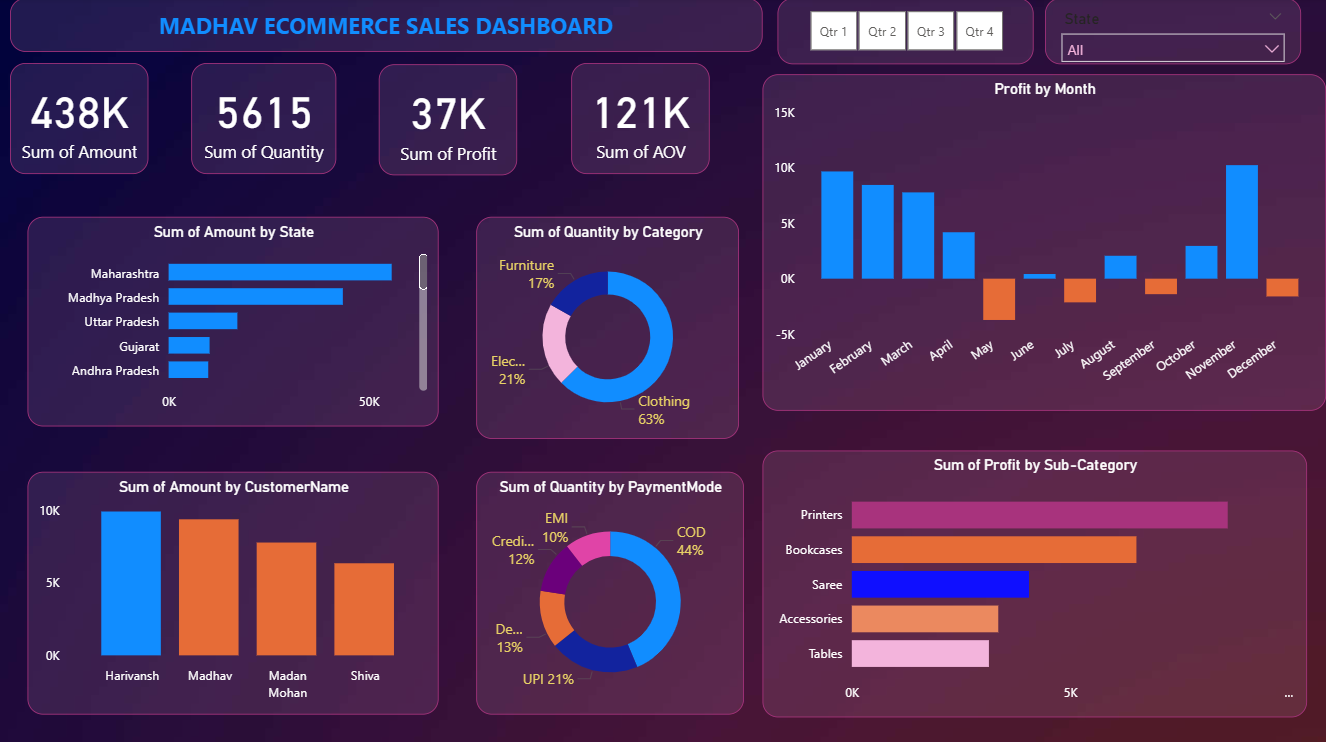

Layout of this report page (visuals, bound fields, positions):
{"tool":"powerbi","page":{"name":"Page 1","canvas":[1280,720],"ordinal":0},"visuals":[{"type":"textbox","box":[9.7,0,726.3,51.9],"z":0},{"type":"columnChart","title":" Profit by Month","fields":{"Y":["Sum(Details.Profit)"],"Category":["Orders.Order Date.Variation.Date Hierarchy.Month"]},"box":[735.9,73.6,544.1,324.5],"z":1000},{"type":"barChart","fields":{"Category":["Details.Sub-Category"],"Y":["Sum(Details.Profit)"]},"box":[735.5,436.4,525.6,258],"z":2000},{"type":"donutChart","fields":{"Category":["Details.Category"],"Y":["Sum(Details.Quantity)"]},"box":[459.7,211.1,253.4,214.7],"z":3000},{"type":"donutChart","fields":{"Y":["Sum(Details.Quantity)"],"Category":["Details.PaymentMode"]},"box":[459.7,457.2,258.2,234],"z":4000},{"type":"card","fields":{"Values":["Sum(Details.Amount)"]},"box":[9.7,62.7,133.9,107.4],"z":5000},{"type":"card","fields":{"Values":["Sum(Details.Quantity)"]},"box":[184.6,62.7,139.9,107.4],"z":6000},{"type":"card","fields":{"Values":["Sum(Details.Profit)"]},"box":[365.6,63.9,133.9,107.4],"z":7000},{"type":"card","fields":{"Values":["Sum(Details.AOV)"]},"box":[551.3,62.7,133.9,107.4],"z":8000},{"type":"barChart","fields":{"Category":["Orders.State"],"Y":["Sum(Details.Amount)"]},"box":[26.5,211.1,396.9,202.7],"z":8001},{"type":"columnChart","fields":{"Category":["Orders.CustomerName"],"Y":["Sum(Details.Amount)"]},"box":[27,457,397,234],"z":8002},{"type":"slicer","fields":{"Values":["Orders.Order Date.Variation.Date Hierarchy.Quarter"]},"box":[750.4,0,247.3,63.9],"z":8003},{"type":"slicer","fields":{"Values":["Orders.State"]},"box":[1008.6,0,247.3,63.9],"z":8004}]}

Visuals, with their boxes in screenshot pixels (x1, y1, x2, y2), scaled from the page's 1280x720 canvas onto the 1326x742 screenshot:
textbox: l=10, t=0, r=762, b=53
" Profit by Month" columnChart: l=762, t=76, r=1325, b=410
barChart - Details.Sub-Category x Sum(Details.Profit): l=762, t=450, r=1306, b=716
donutChart - Details.Category x Sum(Details.Quantity): l=476, t=218, r=739, b=439
donutChart - Sum(Details.Quantity) x Details.PaymentMode: l=476, t=471, r=744, b=712
card - Sum(Details.Amount): l=10, t=65, r=149, b=175
card - Sum(Details.Quantity): l=191, t=65, r=336, b=175
card - Sum(Details.Profit): l=379, t=66, r=517, b=177
card - Sum(Details.AOV): l=571, t=65, r=710, b=175
barChart - Orders.State x Sum(Details.Amount): l=27, t=218, r=439, b=426
columnChart - Orders.CustomerName x Sum(Details.Amount): l=28, t=471, r=439, b=712
slicer - Orders.Order Date.Variation.Date Hierarchy.Quarter: l=777, t=0, r=1034, b=66
slicer - Orders.State: l=1045, t=0, r=1301, b=66
